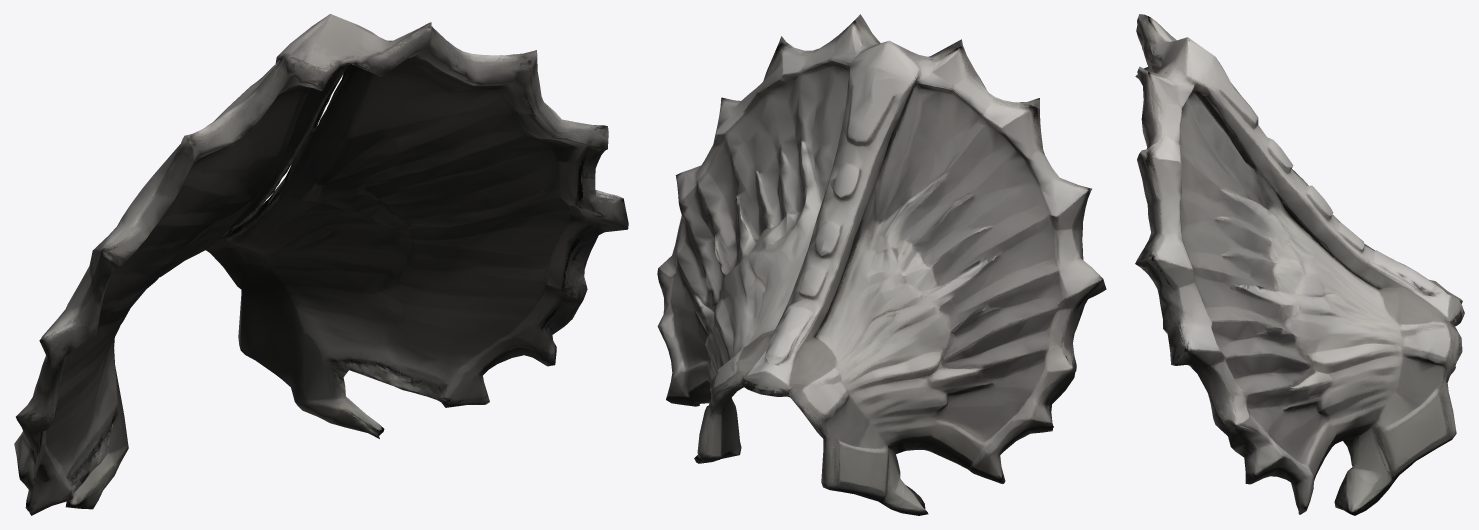
The model's file is frill.glb.
3 views of the same model, side by side, from view 1: azimuth 30°, elevation 25°; view 2: azimuth 150°, elevation 25°; view 3: azimuth 270°, elevation 25° (orthographic). The views are drawn at different scales.
Parts seen in each view (by area): view 1: world; view 2: world; view 3: world.
Part boxes in pixels (box(x1,y1,x2,y2)): world: box(14, 14, 628, 515); world: box(657, 14, 1106, 515); world: box(1135, 14, 1464, 515).
Bounding box in the file's own units: 1 × 0.8701 × 0.6232.
Materials: 1 (1 with a texture image).
